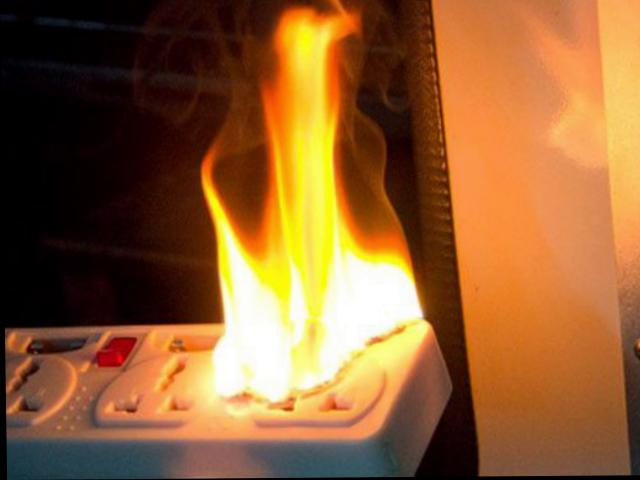fire: (220, 233, 421, 330), (268, 14, 347, 246), (217, 331, 342, 400), (215, 208, 236, 247), (205, 178, 221, 210)
